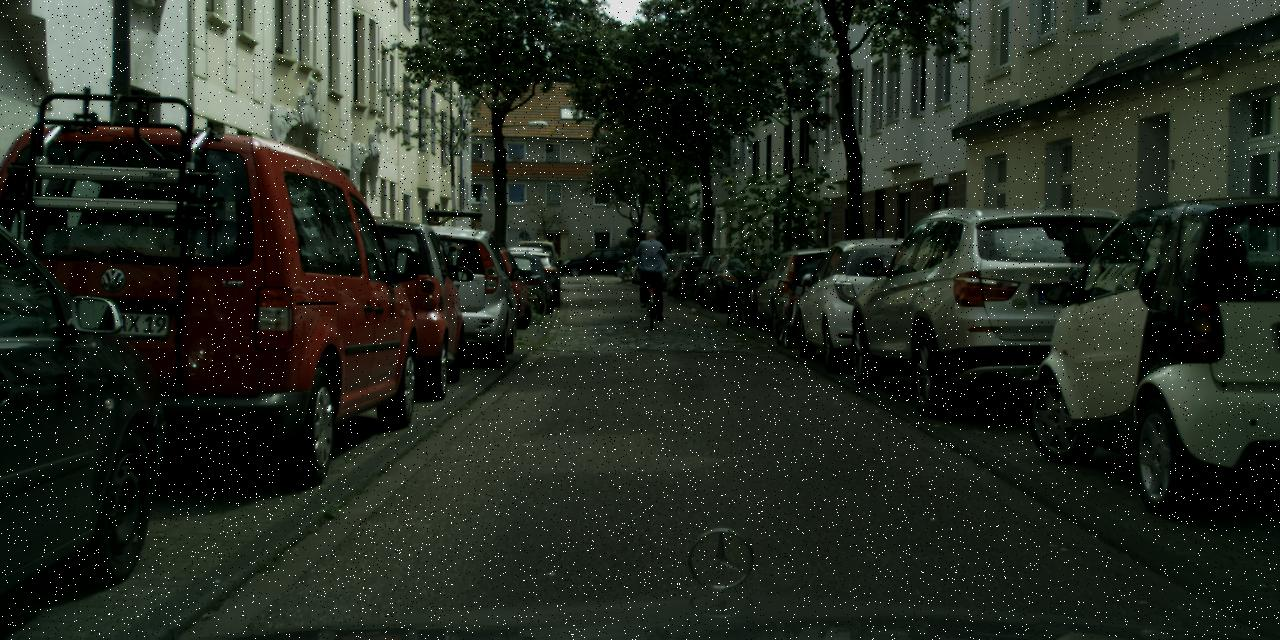ped: (635, 230, 668, 311)
